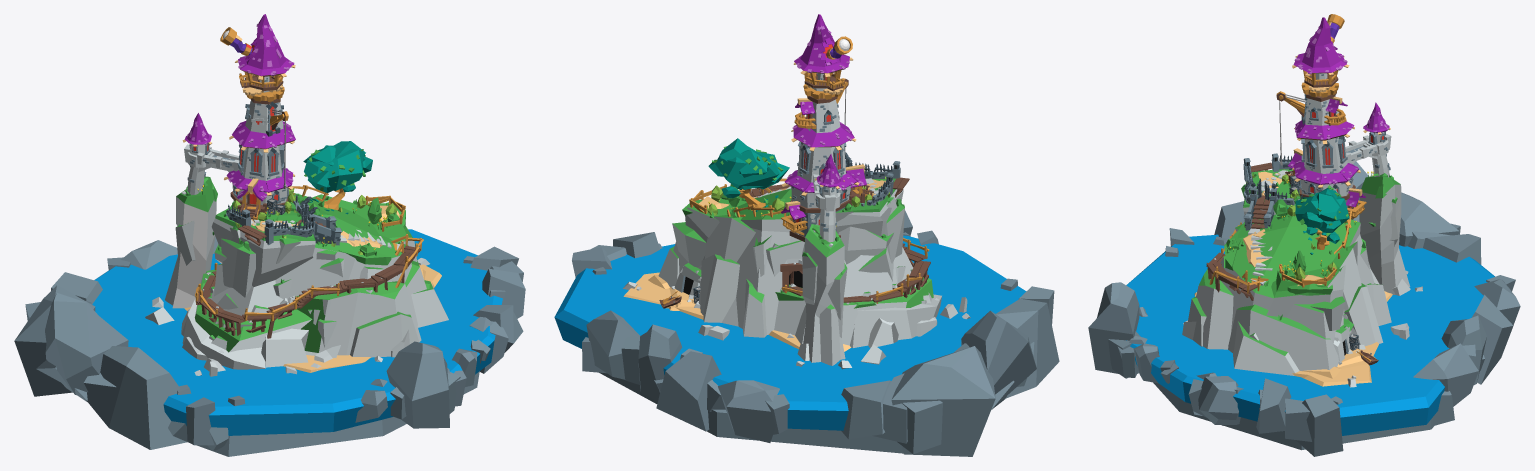
The model's file is wizard-tower.glb.
The picture shows the model from 3 angles, left to right: view 1: azimuth 30°, elevation 25°; view 2: azimuth 150°, elevation 25°; view 3: azimuth 270°, elevation 25°; orthographic projection. The views are drawn at different scales.
Parts seen in each view (by area): view 1: group1246517241, group246619086, group1145603057, group1258333840, group234471487, group1359608024, group1423647544, group10134164, group2075310523, group822899764, group1062179010, group521495168 (+21 smaller); view 2: group1246517241, group822899764, group246619086, group1423647544, group1258333840, group1745990986, group10134164, group2075310523, group1074259812, group1145603057, group1797324492, group1430347838 (+29 smaller); view 3: group1246517241, group1423647544, group10134164, group1667910820, group1359608024, group234471487, group670267053, group624288361, group374154244, group2075310523, group521495168, group1718593210 (+23 smaller).
Part boxes in pixels (x1,y1,x2,y2): group1246517241: (92, 229, 502, 435); group246619086: (194, 206, 340, 357); group1145603057: (86, 346, 186, 449); group1258333840: (45, 293, 128, 394); group234471487: (295, 279, 421, 355); group1359608024: (386, 341, 449, 428); group1423647544: (275, 193, 411, 299); group10134164: (172, 176, 216, 308); group2075310523: (197, 371, 479, 456); group822899764: (14, 285, 95, 396); group1062179010: (350, 311, 418, 357); group521495168: (235, 14, 295, 92); group1246517241: (554, 235, 1026, 430); group822899764: (891, 346, 995, 456); group246619086: (721, 178, 933, 345); group1423647544: (673, 188, 802, 334); group1258333840: (961, 310, 1036, 407); group1745990986: (656, 351, 721, 431); group10134164: (803, 224, 845, 362); group2075310523: (599, 372, 903, 453); group1074259812: (718, 380, 779, 442); group1145603057: (996, 298, 1059, 399); group1797324492: (700, 254, 739, 322); group1430347838: (841, 380, 891, 439); group1246517241: (1126, 234, 1494, 435); group1423647544: (1221, 214, 1374, 347); group10134164: (1359, 176, 1410, 294); group1667910820: (1228, 304, 1338, 370); group1359608024: (1088, 282, 1139, 373); group234471487: (1196, 269, 1233, 349); group670267053: (1413, 343, 1478, 406); group624288361: (1296, 394, 1343, 456); group374154244: (1233, 321, 1299, 375); group2075310523: (1153, 382, 1433, 450); group521495168: (1292, 17, 1349, 87); group1718593210: (1266, 265, 1345, 317).
Bounding box in the file's own units: 6.51 × 4.9 × 5.57.
